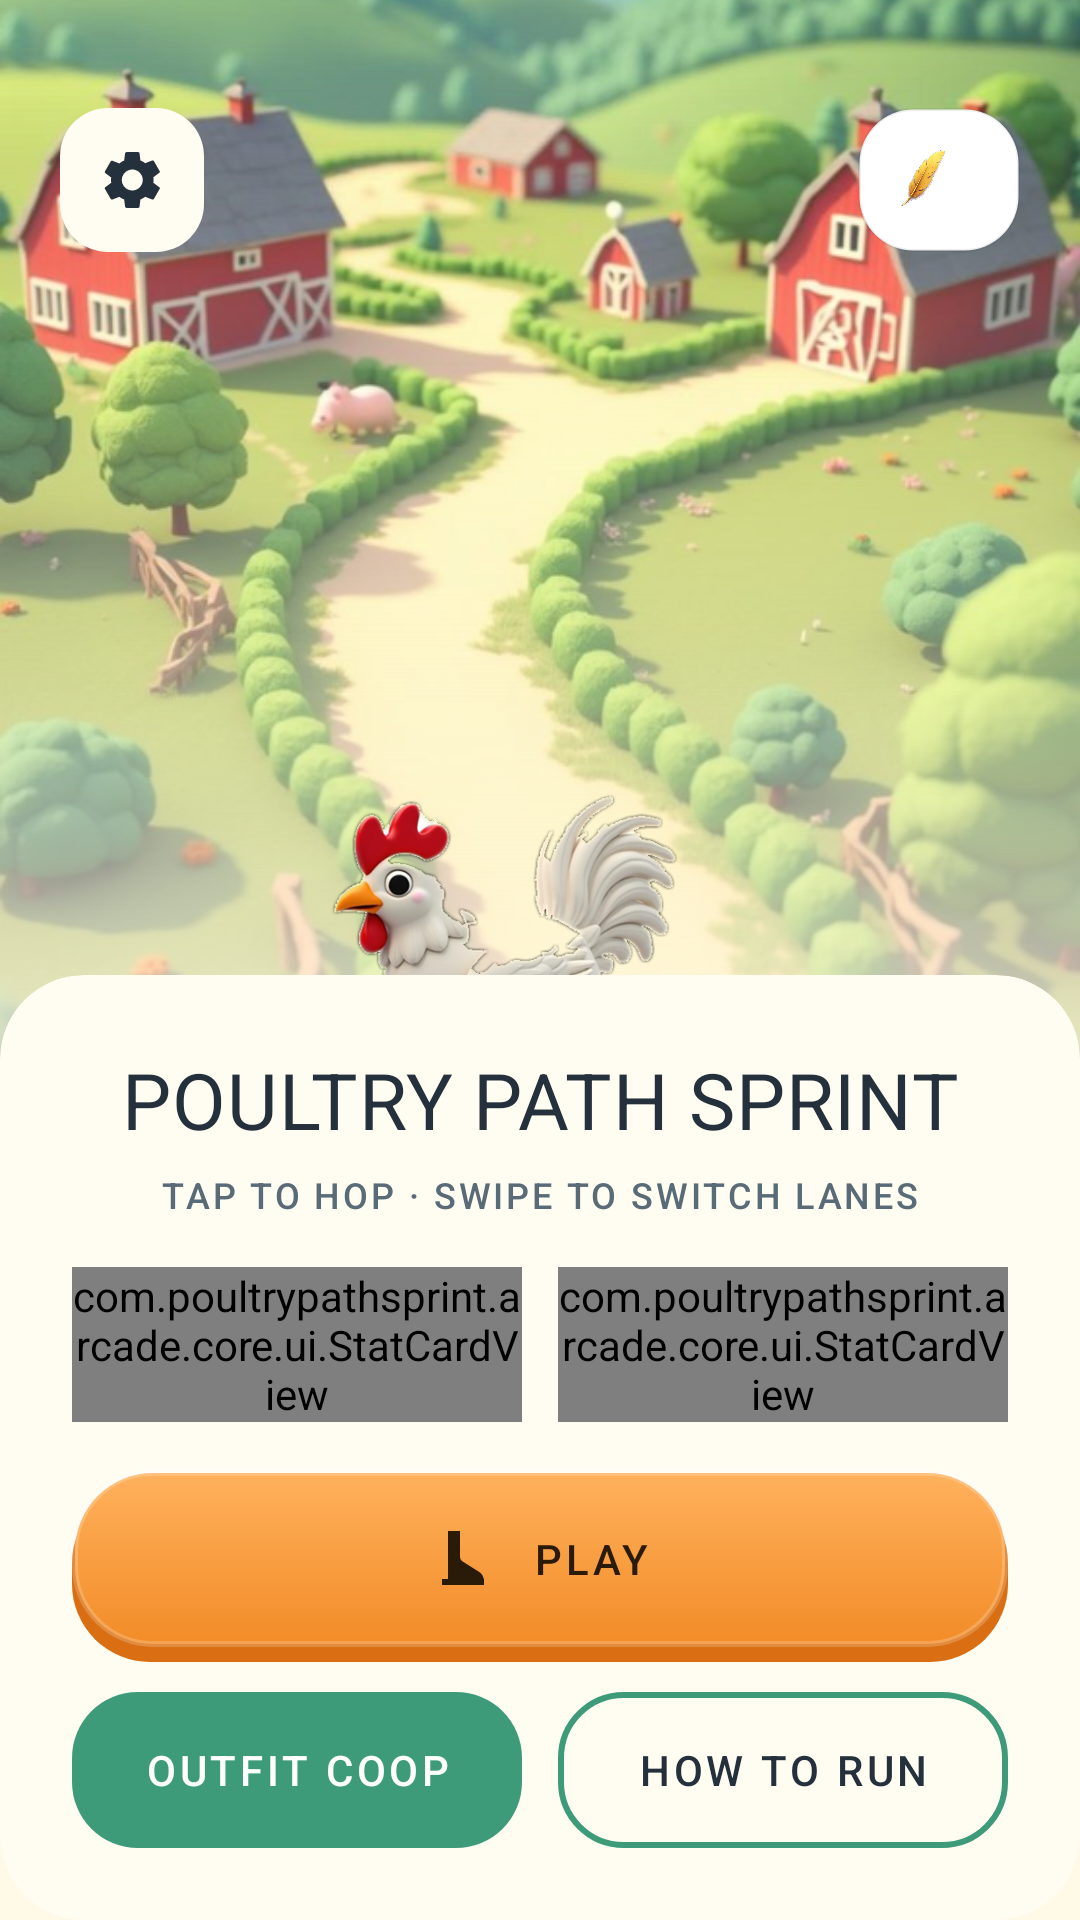

Named icons in this screenshot (1080×1920) and their centers, [x,y]:
Open settings: [132,180]
sprite feather: [923,178]
